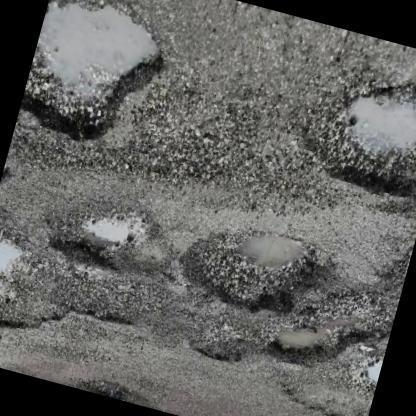pothole: (15, 0, 170, 141), (0, 233, 154, 341), (186, 222, 330, 317), (313, 76, 416, 206), (270, 291, 412, 361), (50, 200, 170, 274)
